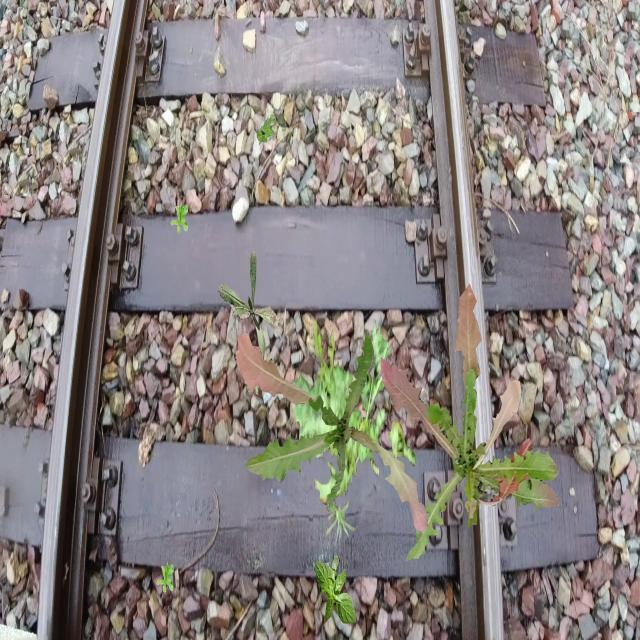Plant: (381, 283, 561, 561), (235, 331, 428, 534), (291, 316, 416, 512), (218, 251, 282, 363), (315, 556, 357, 627), (325, 499, 358, 545), (246, 362, 266, 395), (256, 114, 276, 146), (156, 562, 174, 594), (171, 202, 188, 234)
